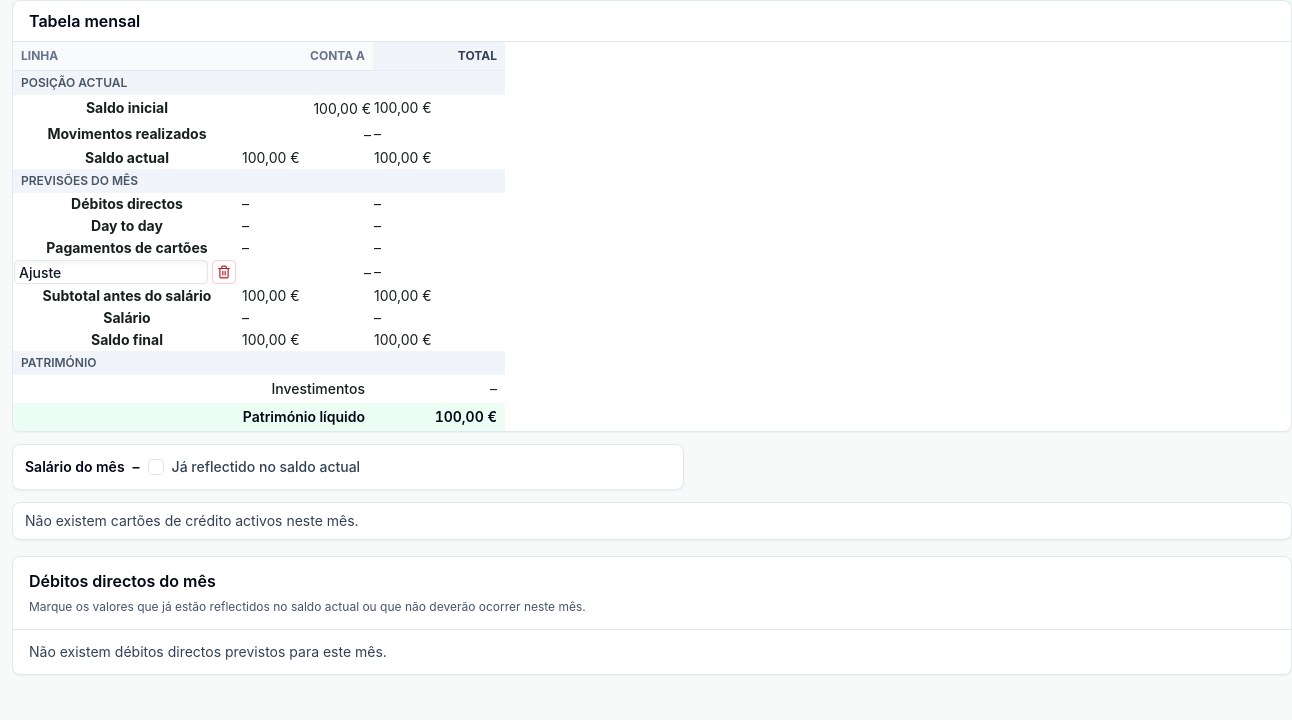
Test case: MonthlyBudgetTable › renders editable custom zero values as a dash until focused
This screenshot has width=1292, height=720.
Expected: the 8th text "–" is shown, [373, 259, 505, 285]
Focus the field named "Ajuste — Conta A": (307, 272) [242, 260, 372, 284]
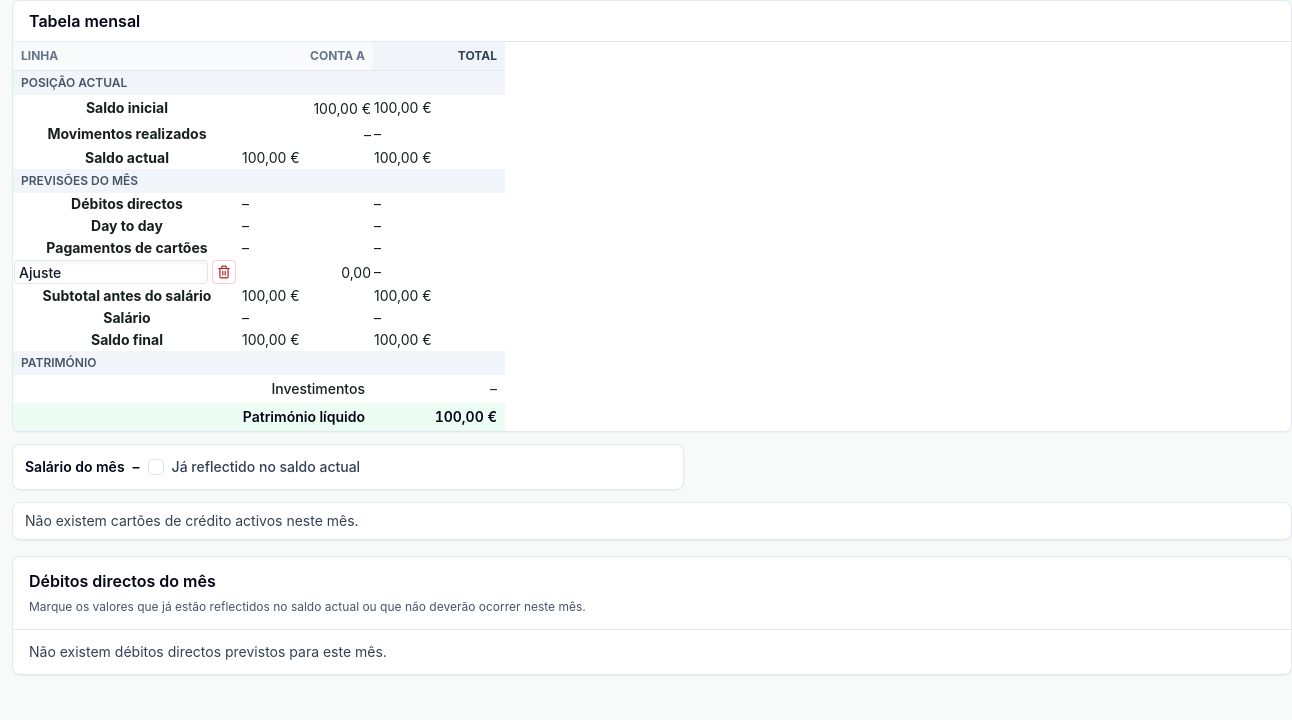
Now the field named "Ajuste — Conta A" holds "0,00", box [242, 260, 372, 284]
